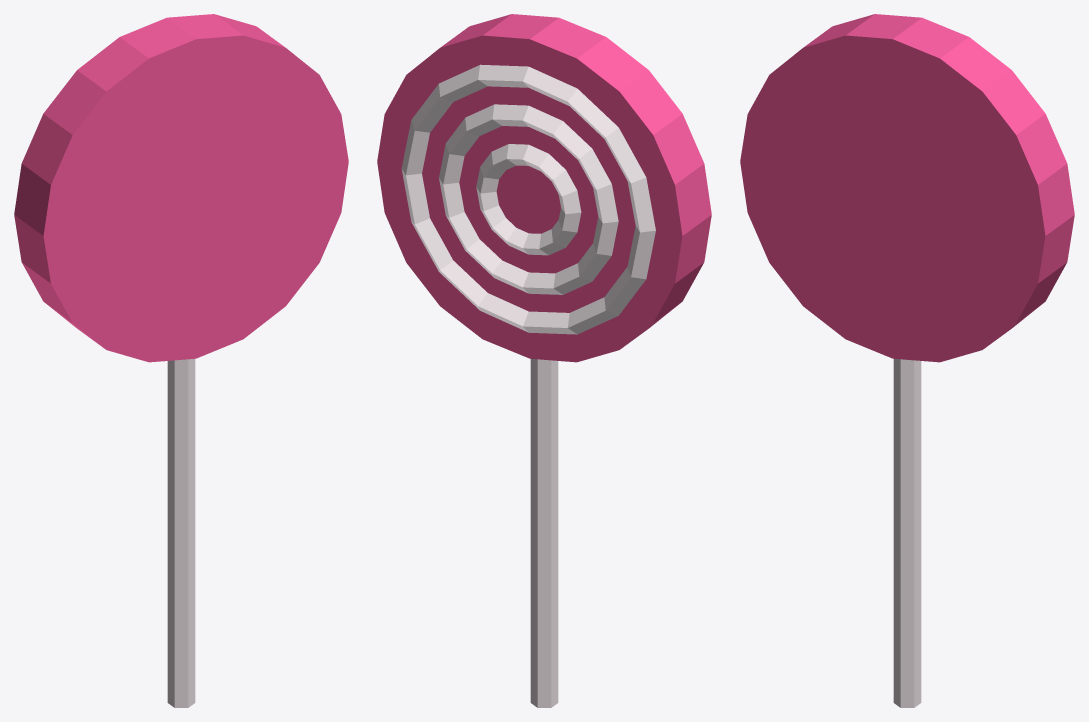
The model's file is Lollipop.fbx.
The picture shows the model from 3 angles, left to right: view 1: azimuth 30°, elevation 25°; view 2: azimuth 150°, elevation 25°; view 3: azimuth 330°, elevation 25°; orthographic projection.
Visible parts, largest first — view 1: CandyPink, Stick; view 2: CandyPink, CandyWhite, Stick; view 3: CandyPink, Stick.
Part boxes in pixels (box(x1,y1,x2,y2)): CandyPink: box(14, 14, 348, 362); Stick: box(167, 359, 195, 707); CandyPink: box(377, 14, 711, 362); CandyWhite: box(401, 64, 655, 334); Stick: box(530, 359, 558, 707); CandyPink: box(740, 14, 1074, 362); Stick: box(893, 359, 921, 707).
Bounding box in the file's own units: 1.8 × 3.8 × 0.37.
